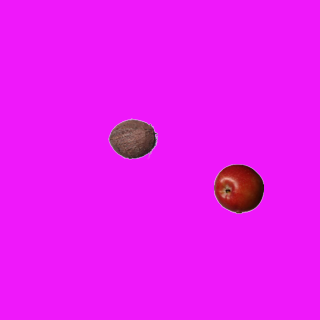Apple Braeburn: (213, 163, 263, 213)
Cocos: (107, 113, 157, 163)
